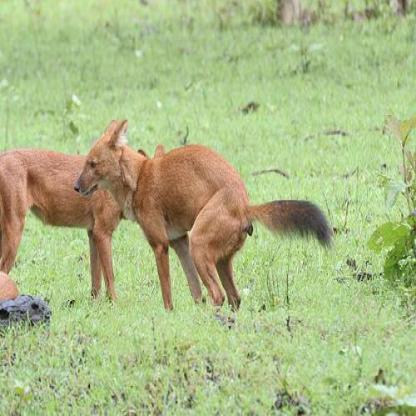dhole: (74, 113, 252, 310), (0, 142, 166, 303)
